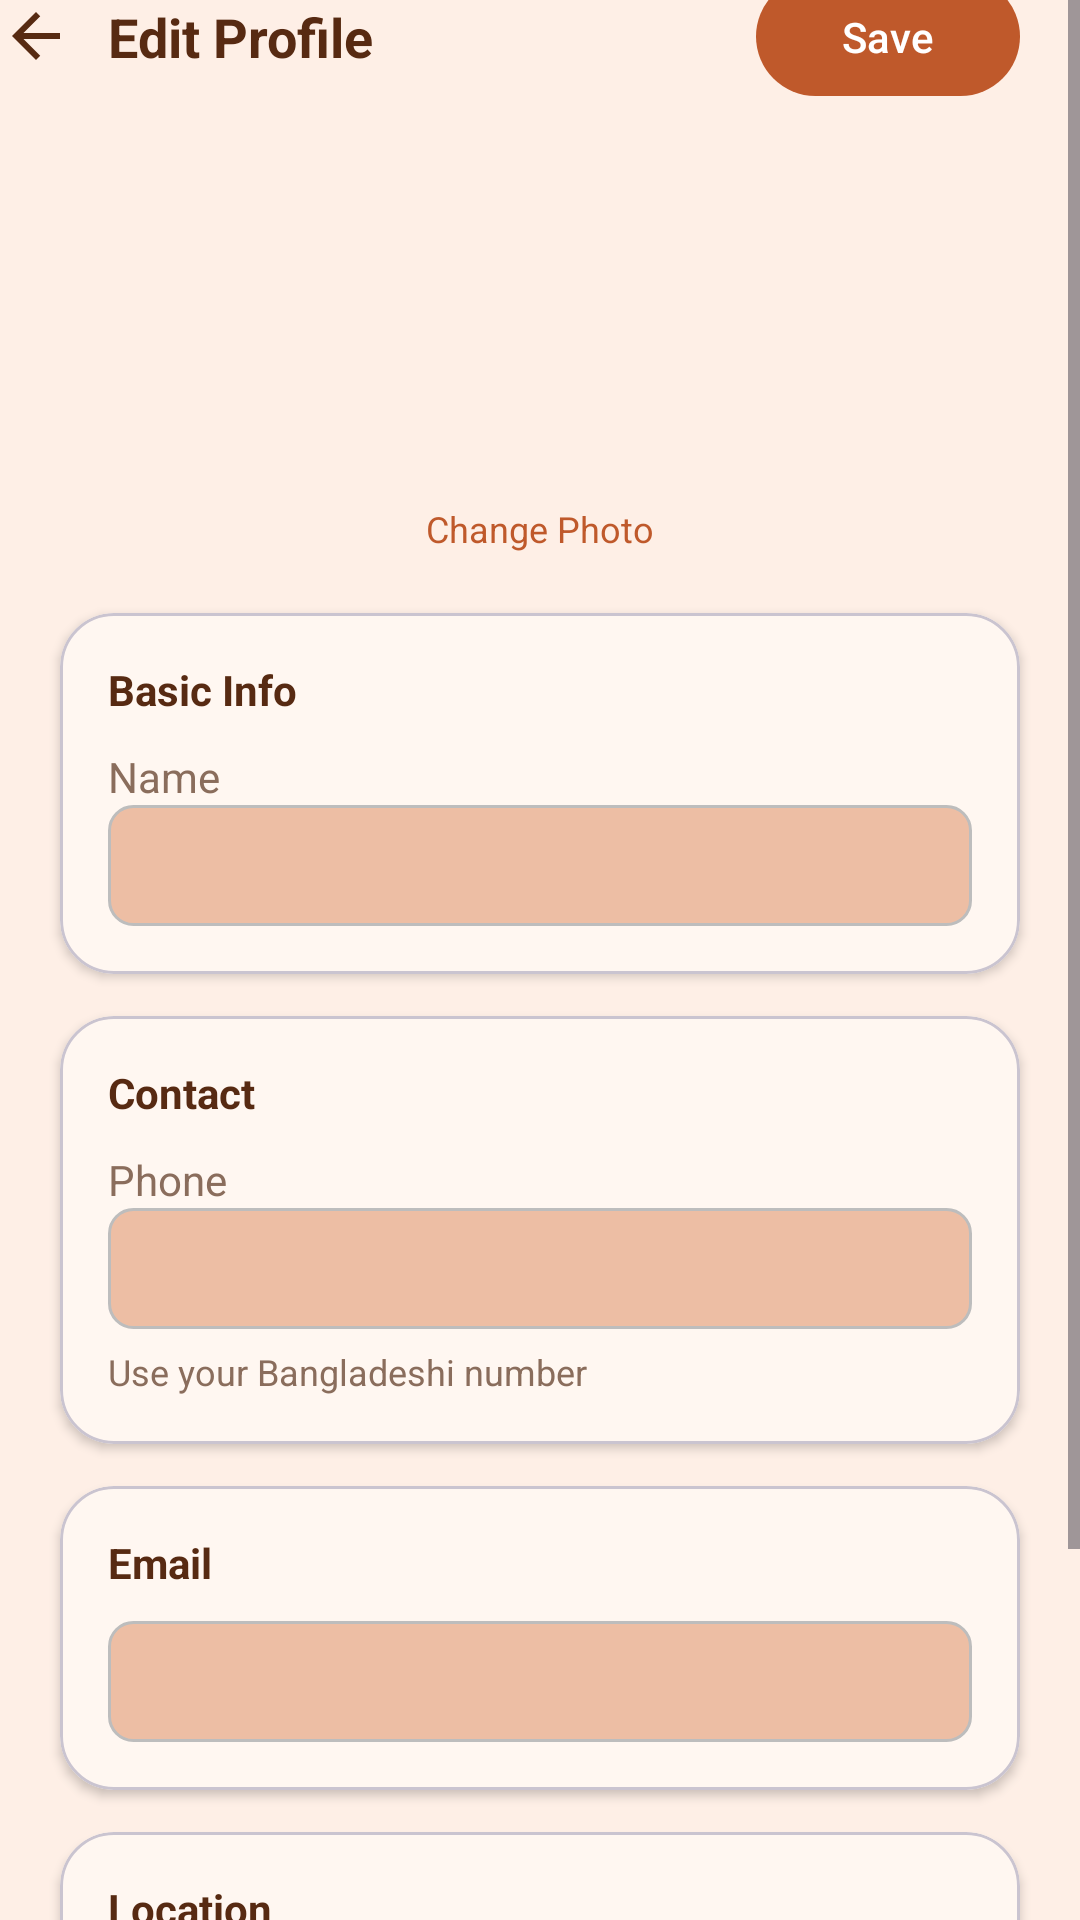

Screen size 1080 x 1920. Icon name, then its center in pixels as (x=x, y=y):
arrow back: (x=36, y=36)
